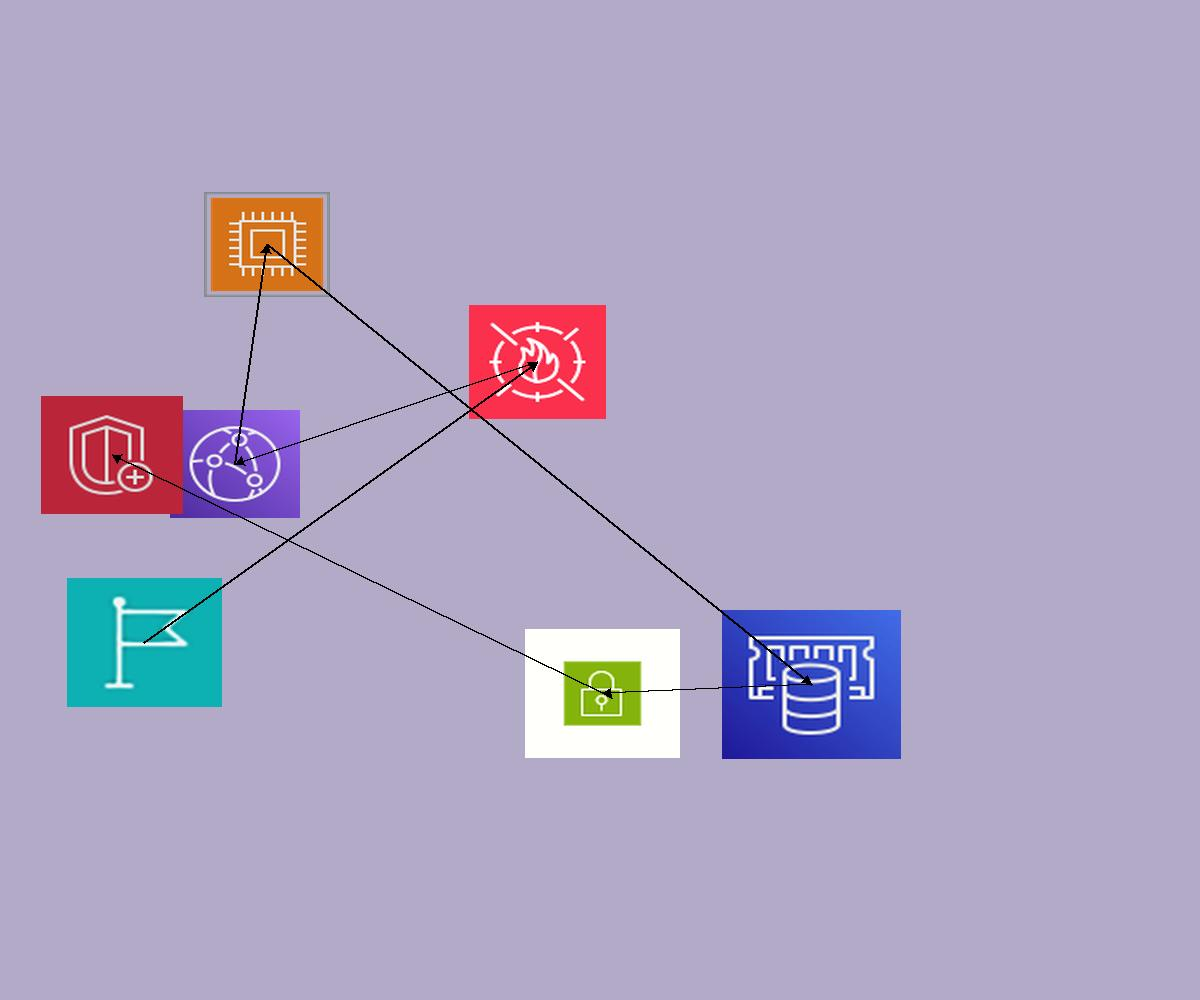AWS-Category_Compute: (204, 192, 330, 297)
AWS-CloudFront: (170, 410, 300, 518)
AWS-ElastiCache: (722, 610, 901, 759)
AWS-Public-subnet: (525, 629, 680, 758)
AWS-Region: (67, 578, 222, 707)
AWS-Shield: (41, 396, 183, 514)
AWS-WAF: (469, 305, 606, 419)
